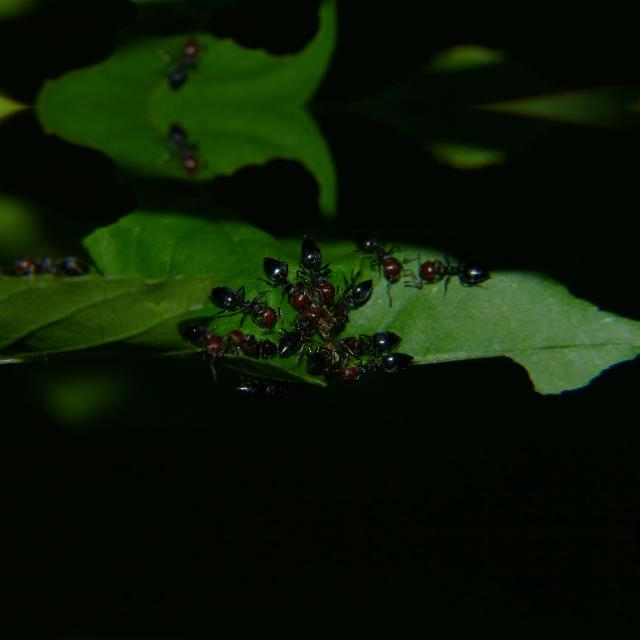Crematogaster: (2, 242, 98, 280), (328, 348, 419, 388), (294, 228, 340, 302), (203, 282, 279, 326), (222, 321, 292, 365), (358, 228, 412, 282), (332, 272, 378, 332), (158, 32, 202, 94), (158, 119, 202, 180), (170, 316, 226, 362), (276, 302, 318, 356), (416, 255, 482, 288), (267, 262, 313, 308), (334, 323, 400, 353)
